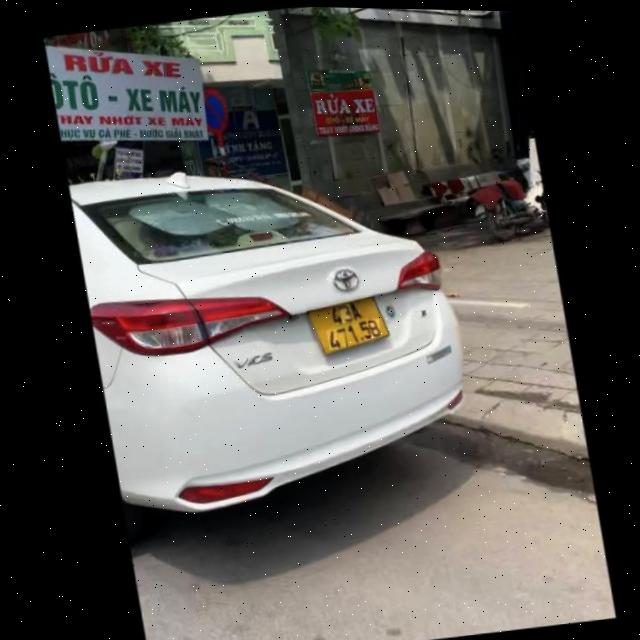car: (68, 138, 482, 548)
plate: (300, 289, 400, 363)
